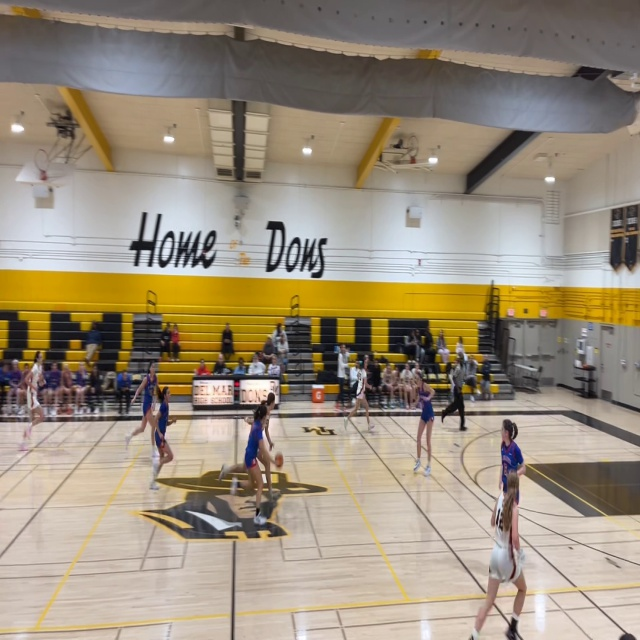Basketball: (274, 452, 283, 467)
